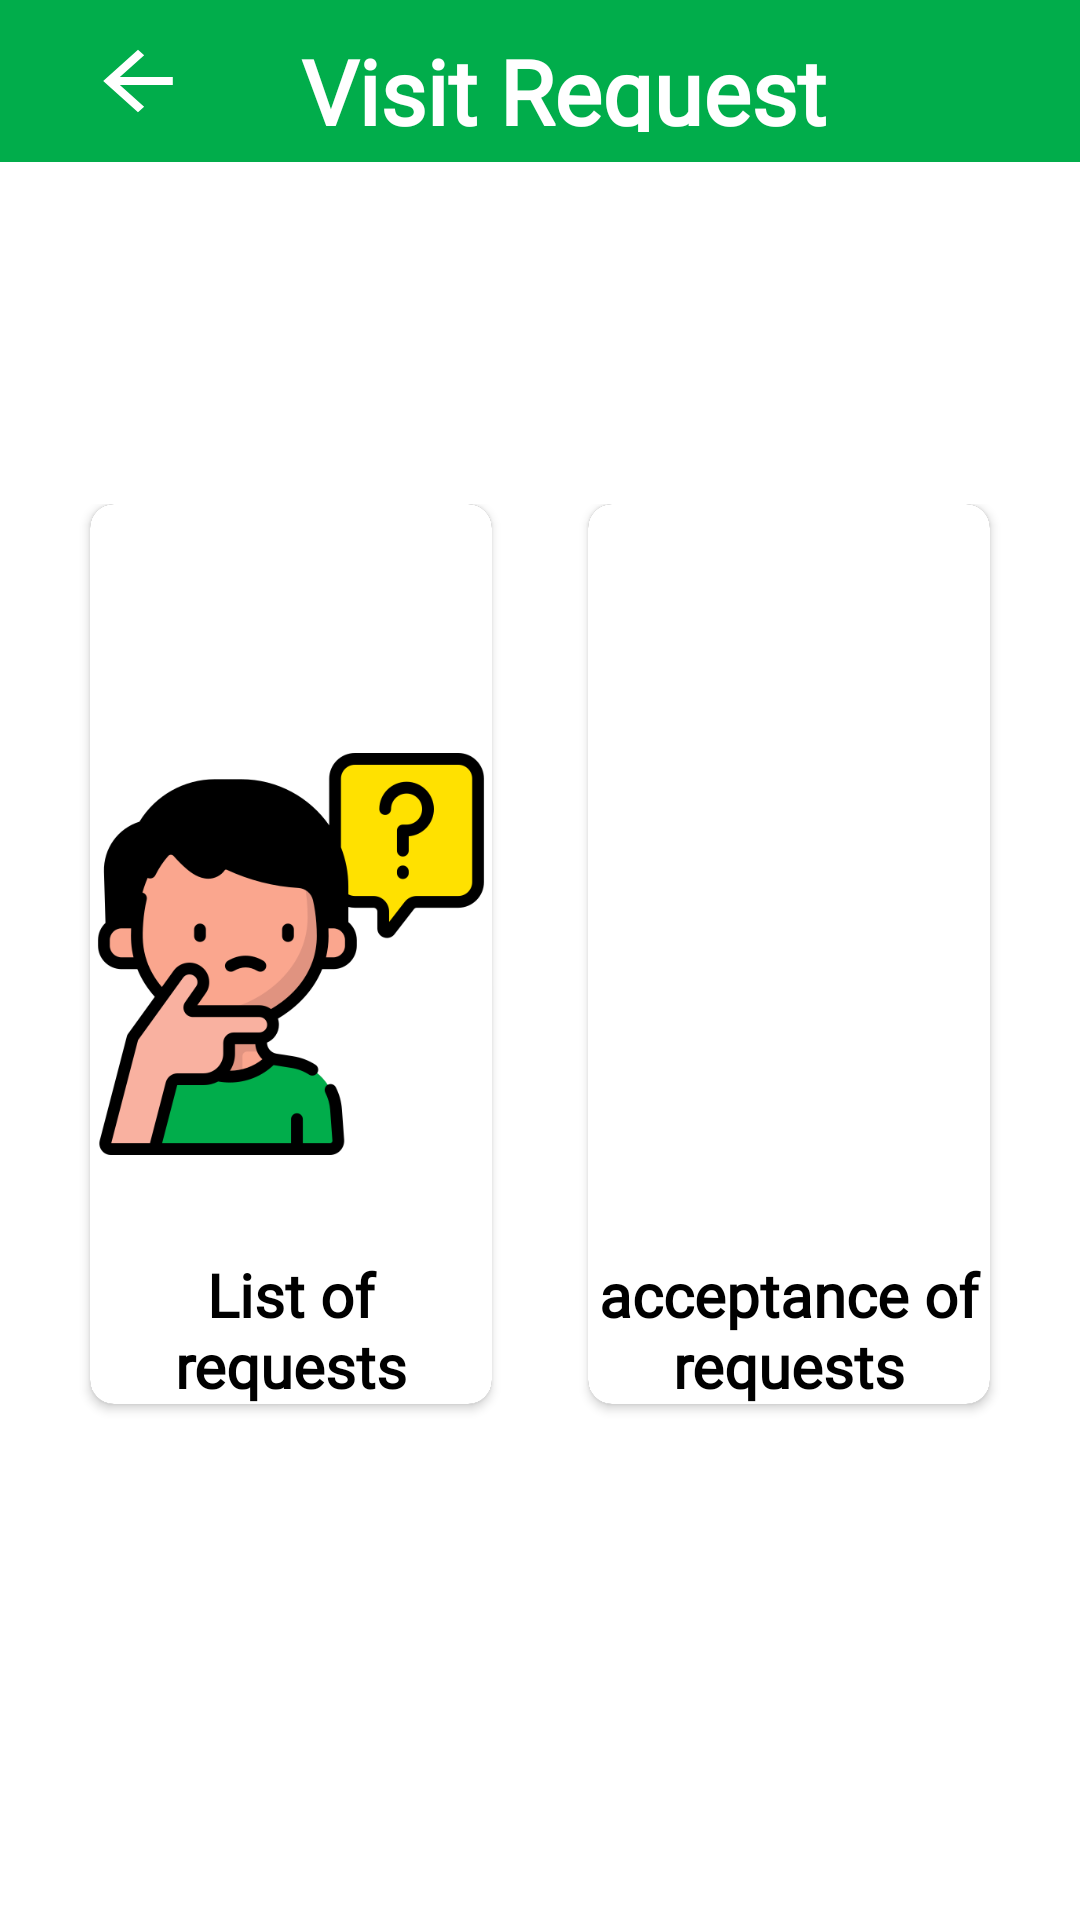

Named icons in this screenshot (1080 × 1920) and their centers, (x=x, y=y):
back: (x=138, y=81)
